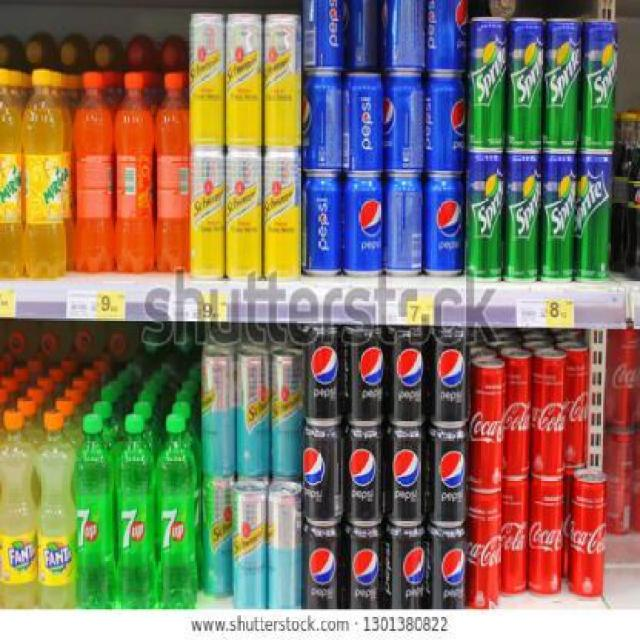Drinks: (34, 410, 74, 608), (74, 415, 114, 610), (154, 414, 194, 609), (114, 414, 154, 609), (0, 410, 35, 610), (468, 17, 508, 152), (468, 354, 506, 492), (466, 152, 506, 283), (545, 16, 583, 152), (508, 18, 546, 153), (582, 17, 620, 152), (576, 152, 613, 285), (571, 470, 609, 599), (541, 152, 577, 285), (532, 347, 568, 479), (506, 153, 542, 284), (342, 72, 386, 176), (343, 325, 388, 426), (387, 325, 431, 427), (302, 428, 346, 527), (424, 74, 467, 175), (388, 428, 432, 526), (301, 73, 344, 173), (343, 176, 385, 278), (302, 325, 344, 426), (530, 479, 565, 599), (346, 428, 388, 527), (301, 175, 342, 276), (386, 74, 426, 177), (423, 176, 463, 278), (469, 492, 502, 610), (431, 426, 469, 528), (430, 327, 468, 428), (385, 176, 423, 276), (505, 348, 533, 481), (383, 527, 426, 610), (426, 527, 468, 610), (502, 481, 530, 599), (302, 528, 342, 610), (302, 0, 348, 71), (425, 0, 469, 74), (342, 527, 382, 608), (380, 0, 425, 71)
